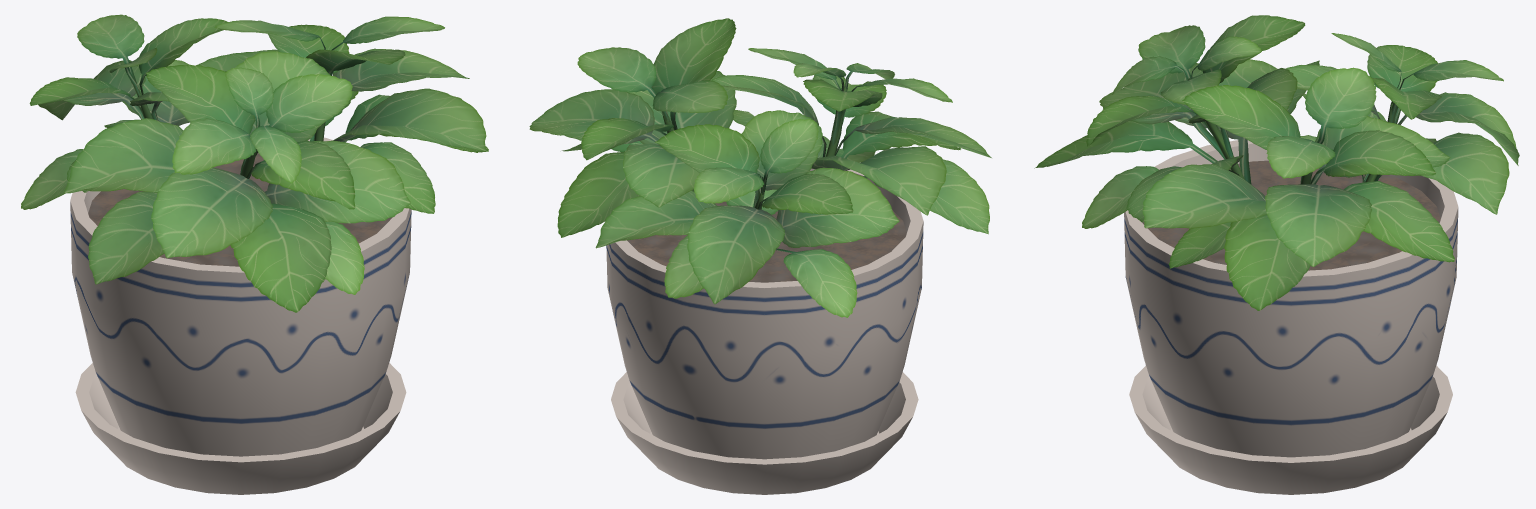
File: Basil_A_002_plant_0.fbx
The picture shows the model from 3 angles, left to right: view 1: azimuth 30°, elevation 25°; view 2: azimuth 150°, elevation 25°; view 3: azimuth 270°, elevation 25°; orthographic projection. The views are drawn at different scales.
Visible parts, largest first — view 1: Basil_A.002_plant_0; view 2: Basil_A.002_plant_0; view 3: Basil_A.002_plant_0.
Part boxes in pixels (x1,y1,x2,y2): Basil_A.002_plant_0: (21,14,488,494); Basil_A.002_plant_0: (529,18,991,494); Basil_A.002_plant_0: (1034,15,1519,494).
Bounding box in the file's own units: 78.43 × 67.35 × 77.83.
